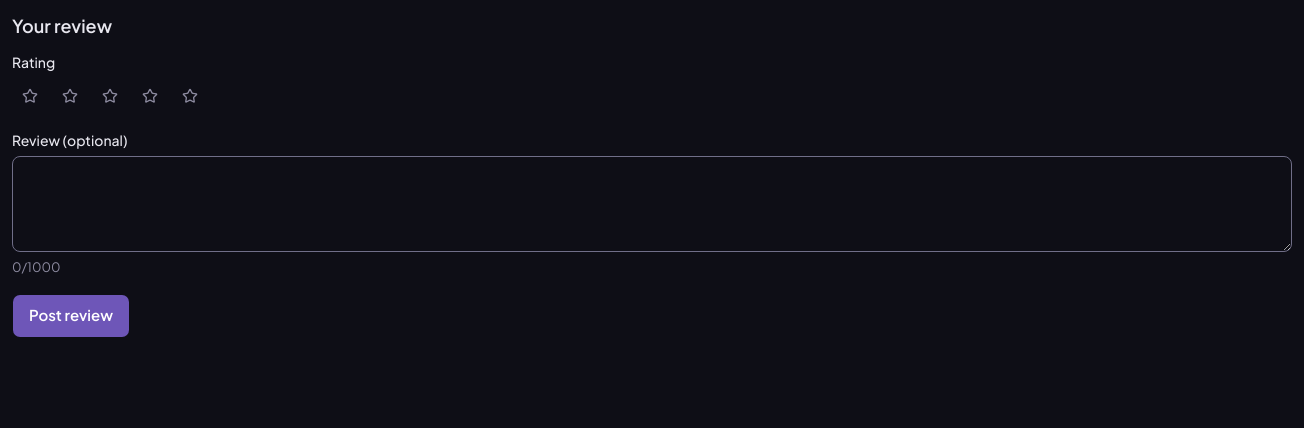
Test: a network failure shows the generic error
Click the radio button named "3 stars": (110, 96) [102, 88, 118, 104]
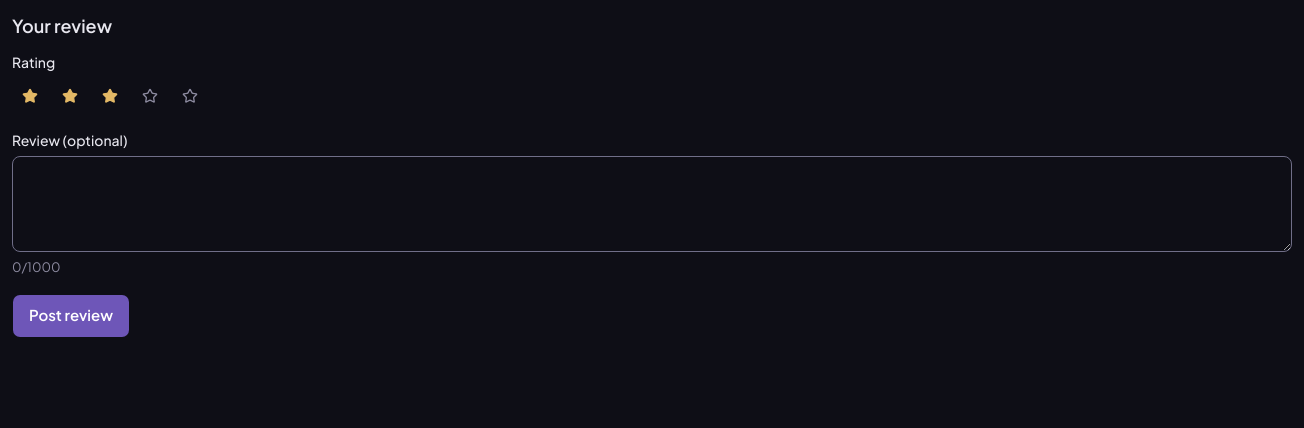
Click the button "Post review": (71, 316) [12, 294, 130, 338]
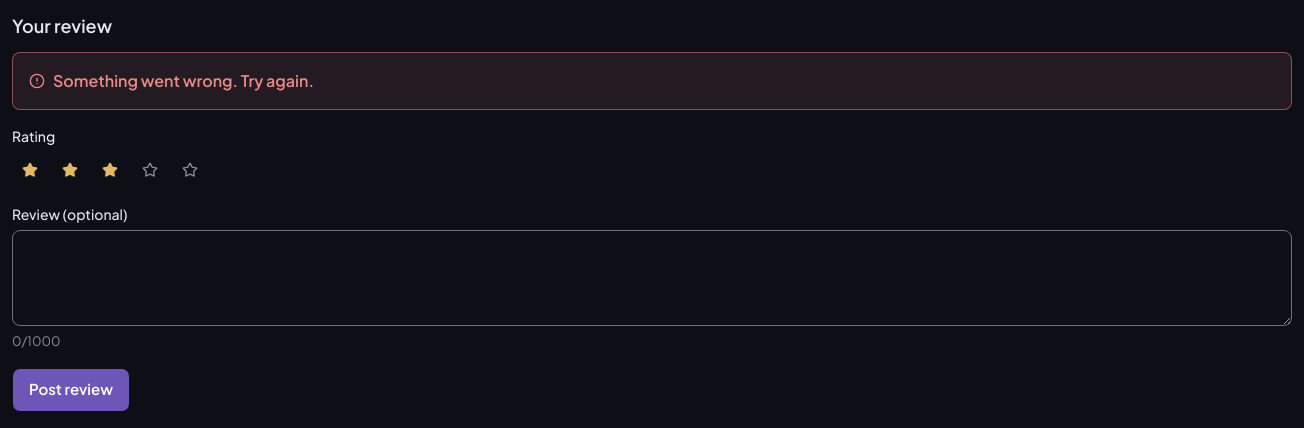
Expected: the message reads "Something went wrong. Try again.", [53, 70, 314, 91]
